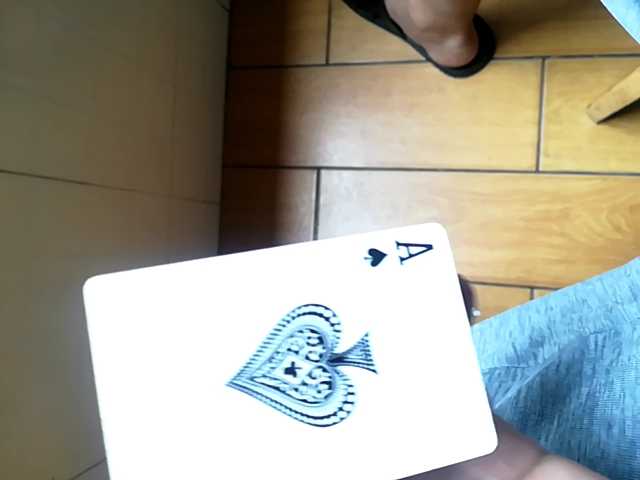ht a: (86, 221, 495, 477)
